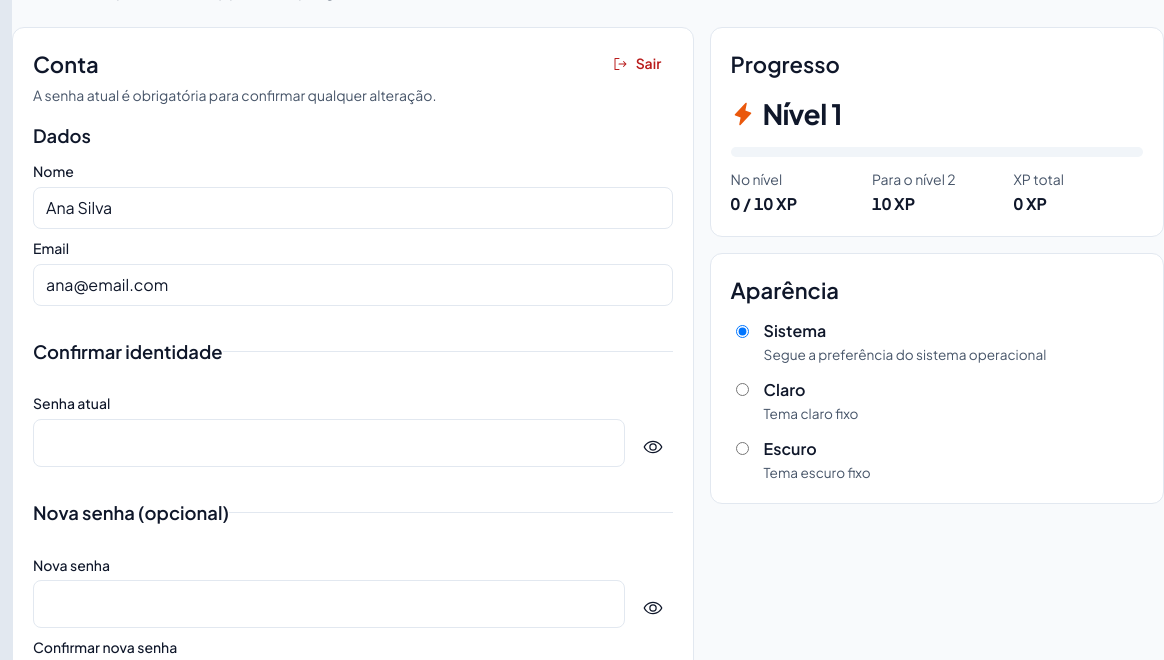
Test: PerfilPage › exige senha atual para salvar
Replace the text in the field labelled "Nome" with "Ana Atualizada": coordinates (353, 208) [33,187,673,229]
(page scrolled)
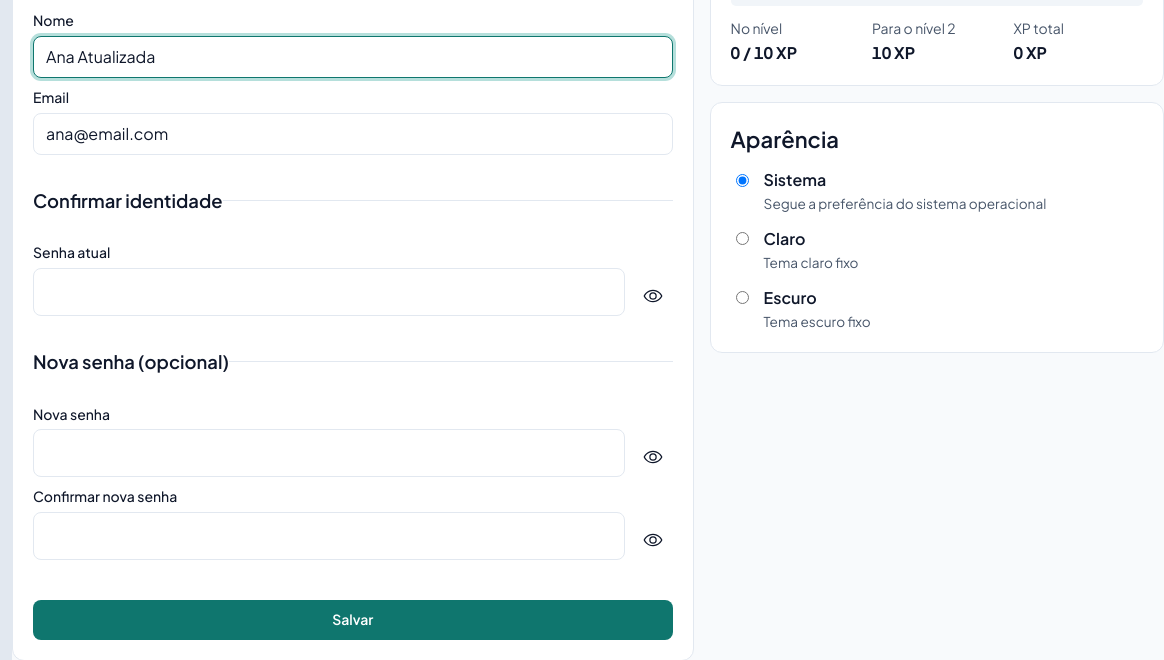
Click the button "Salvar": coordinates (353, 620) [33,600,673,640]
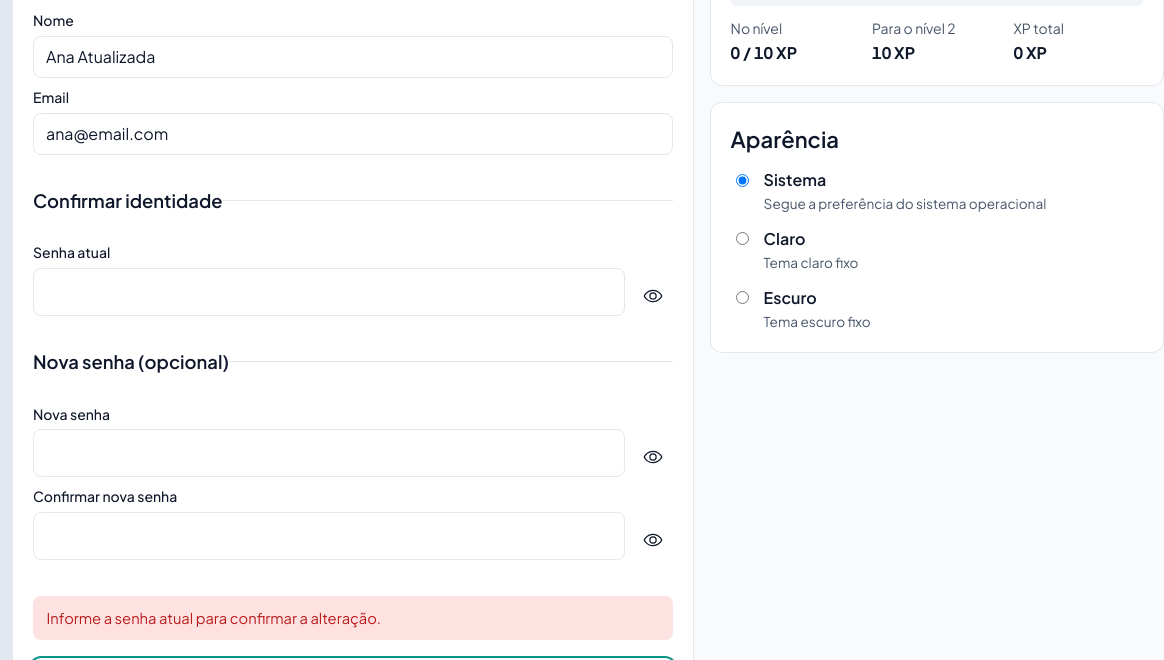
Result: the message shows "senha atual" at [47,609,381,627]
